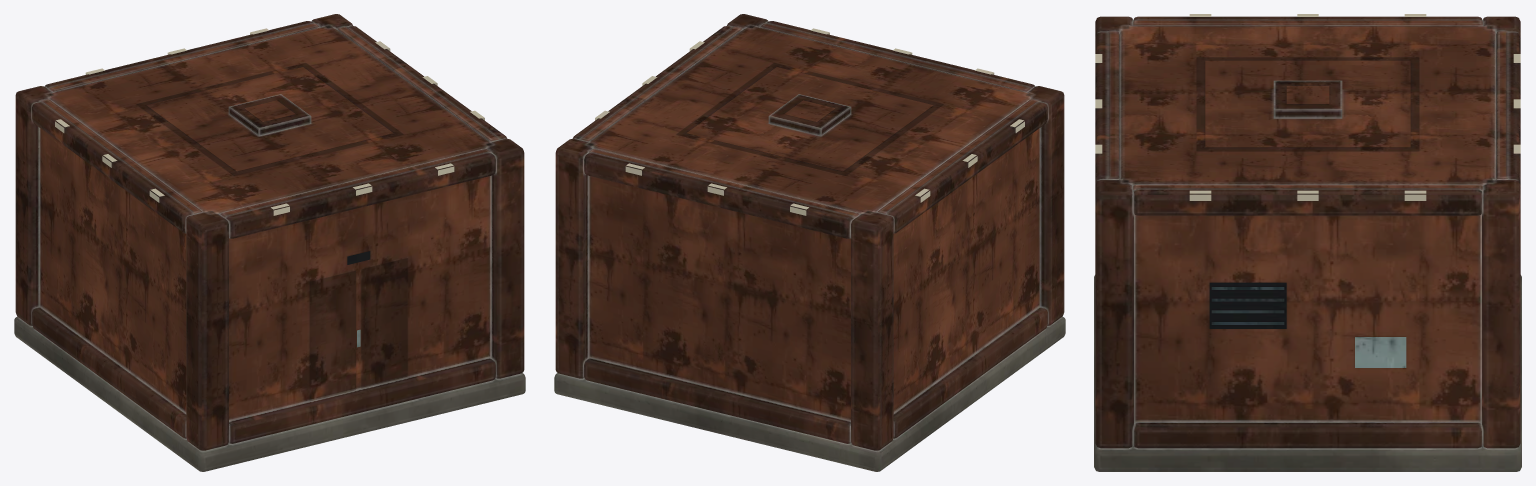
The model's file is hull_starter_closed.glb.
3 renders of one model, left to right at view 1: azimuth 30°, elevation 25°; view 2: azimuth 150°, elevation 25°; view 3: azimuth 270°, elevation 25°, orthographic. The views are drawn at different scales.
Visible parts, largest first — view 1: te_hull_starter_closed; view 2: te_hull_starter_closed; view 3: te_hull_starter_closed.
Part boxes in pixels (<box>): te_hull_starter_closed: <box>14,14,525,471</box>; te_hull_starter_closed: <box>554,14,1065,471</box>; te_hull_starter_closed: <box>1094,14,1521,471</box>.
Bounding box in the file's own units: 1 × 0.7446 × 1.
Materials: 1 (1 with a texture image).
